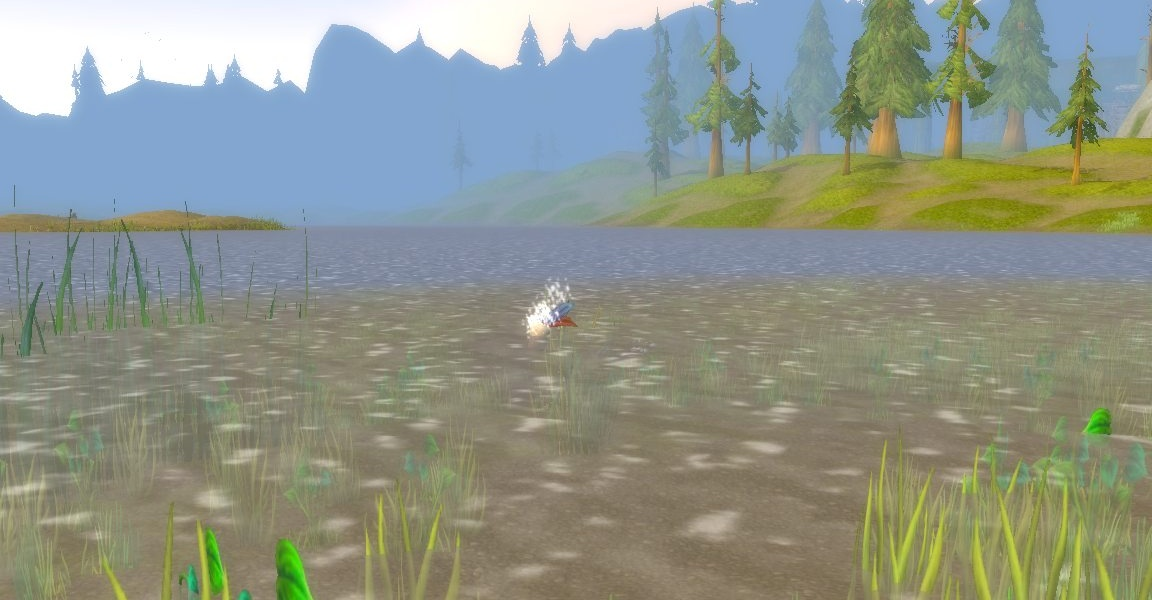Splash: (522, 292, 583, 344)
